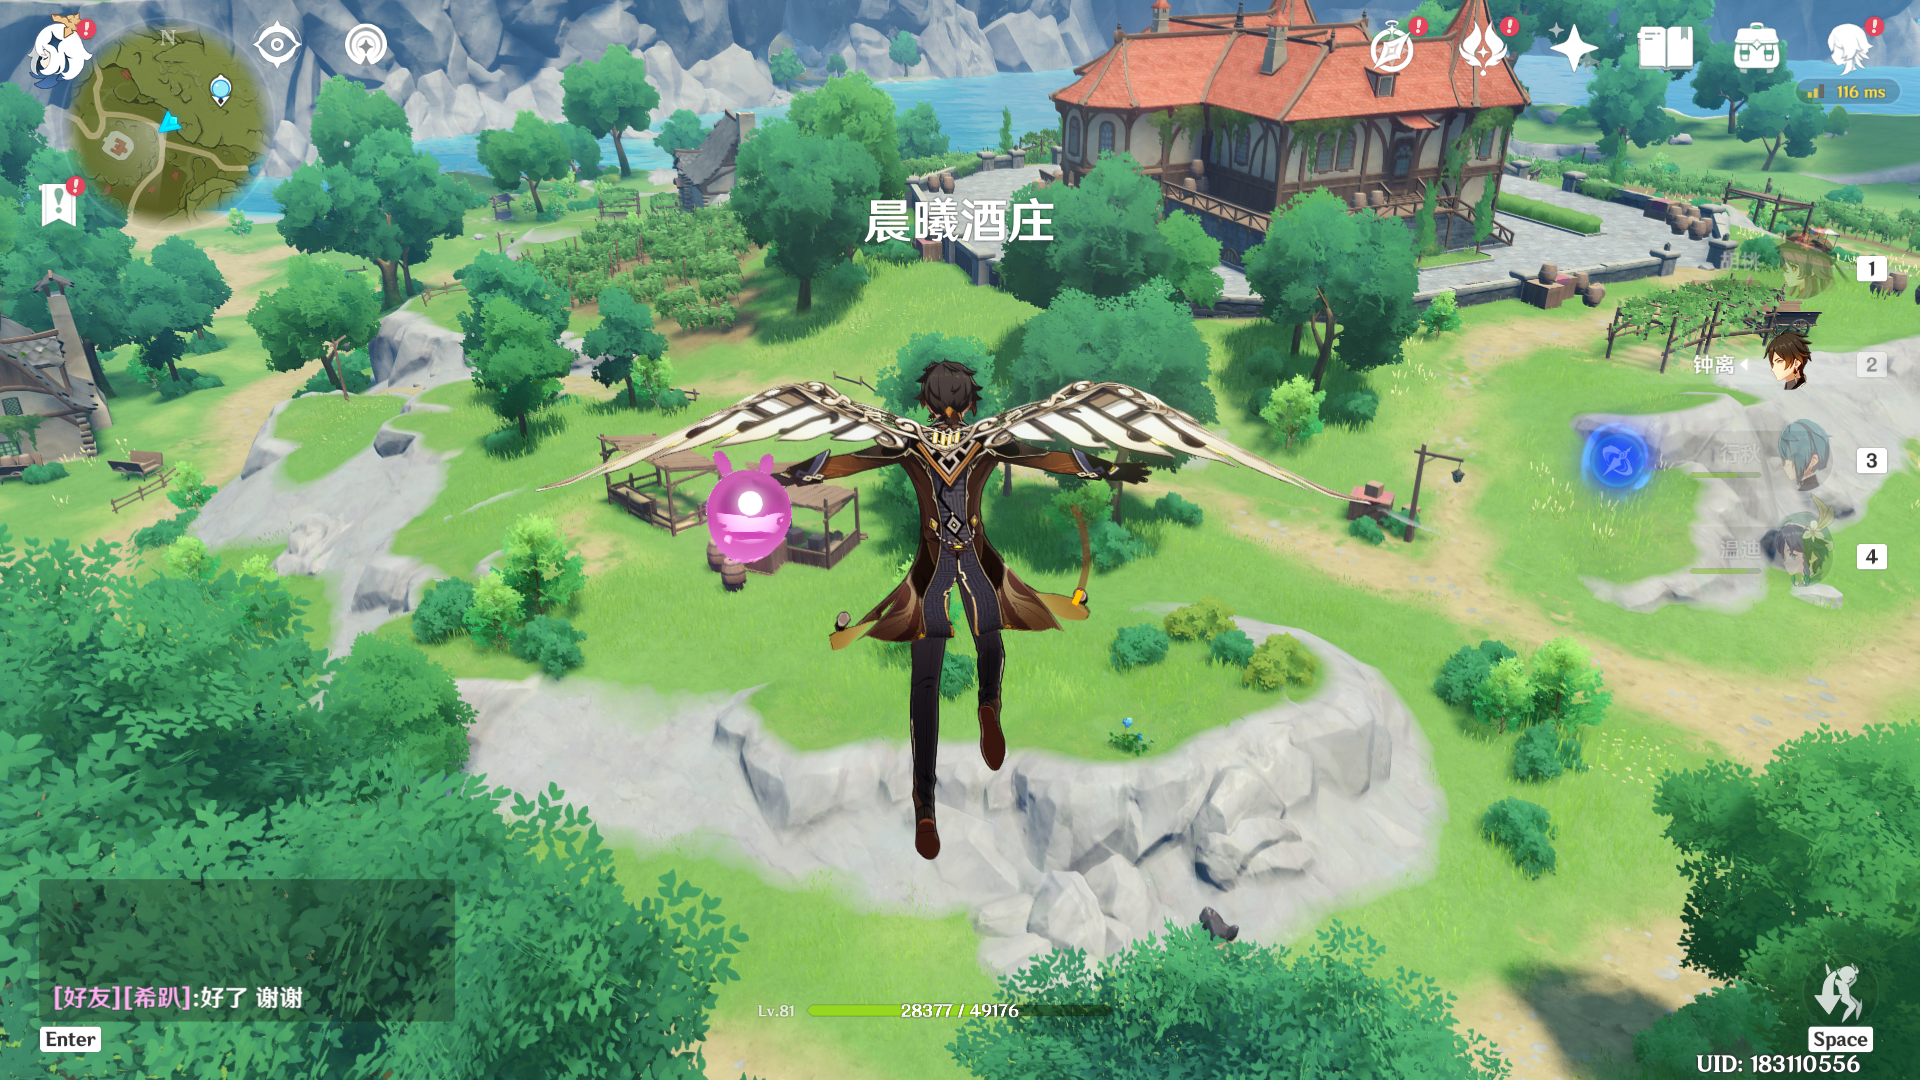character: (716, 280, 1187, 891)
